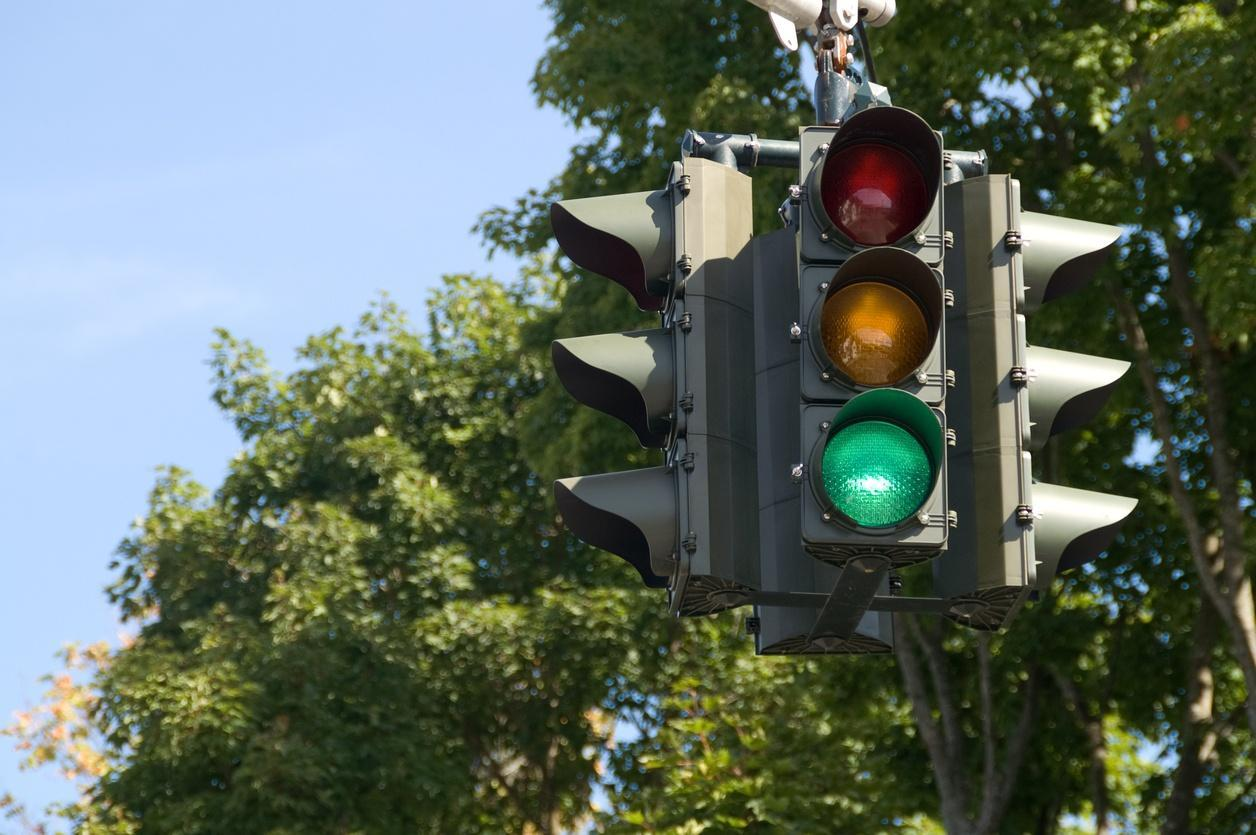green: (764, 90, 964, 584)
